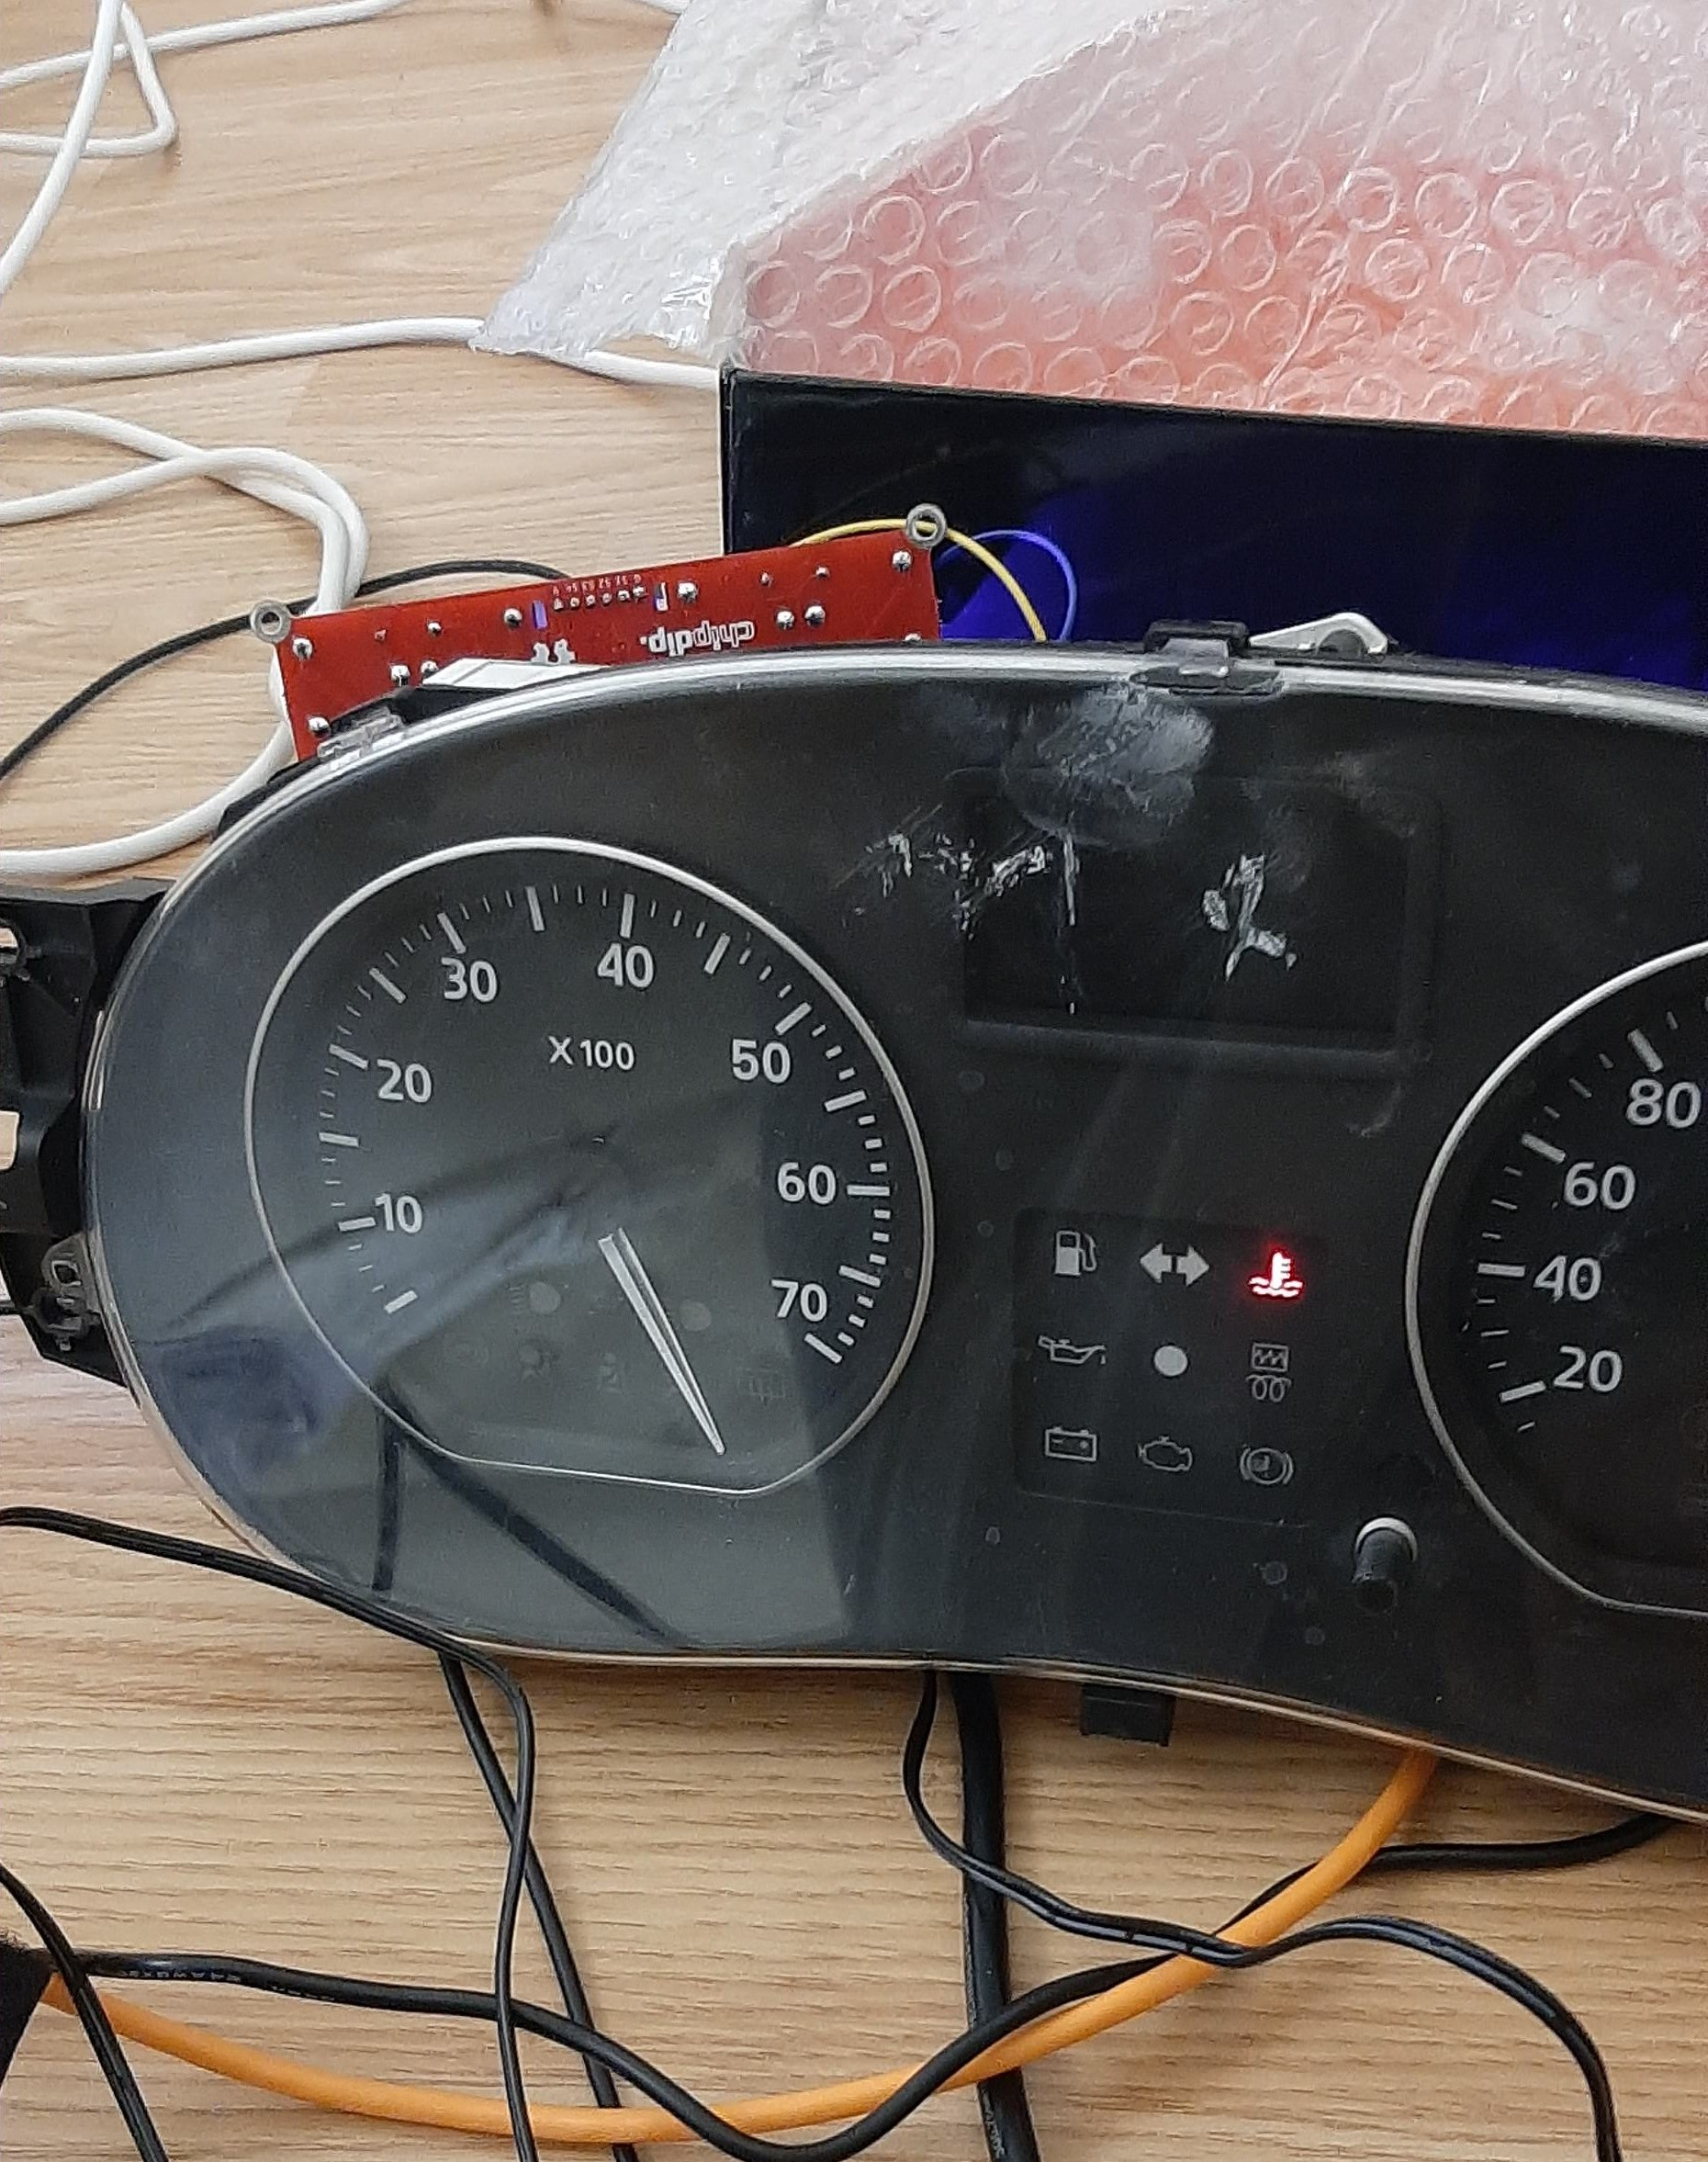Engine Overheating23: (1246, 1249, 1306, 1300)
